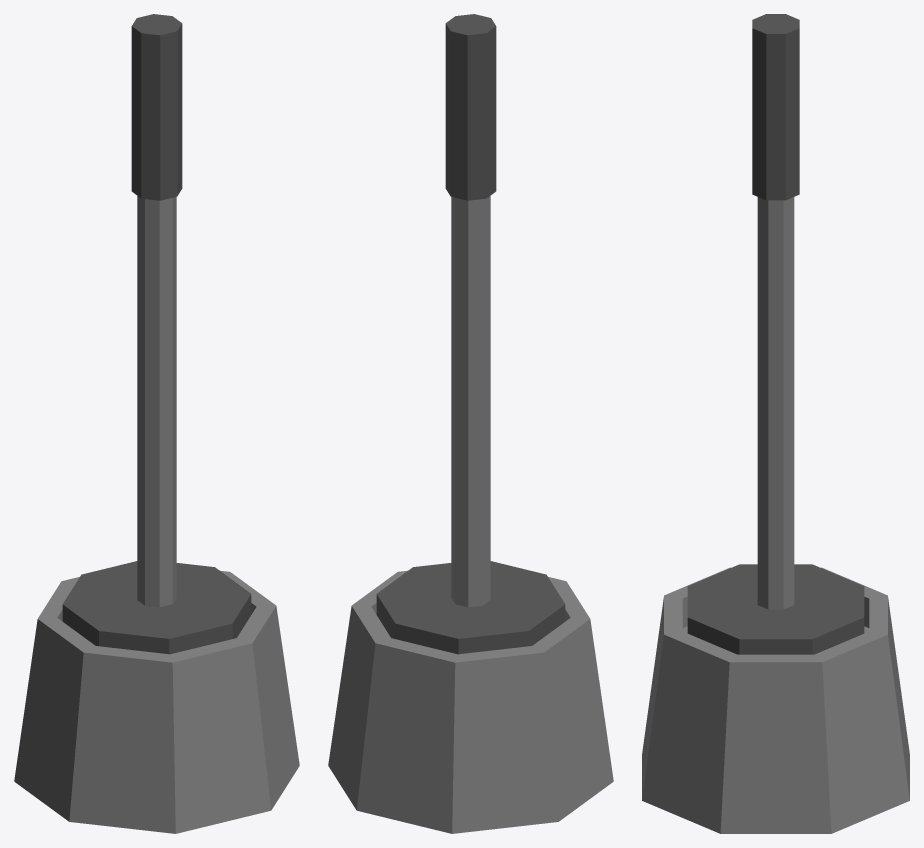
Rendered from BathroomProps_13.fbx.
The picture shows the model from 3 angles, left to right: view 1: azimuth 30°, elevation 25°; view 2: azimuth 150°, elevation 25°; view 3: azimuth 270°, elevation 25°; orthographic projection.
Visible parts, largest first — view 1: BathroomProps_13; view 2: BathroomProps_13; view 3: BathroomProps_13.
Part boxes in pixels (left/top/right/bottom): BathroomProps_13: left=14, top=14, right=299, bottom=833; BathroomProps_13: left=328, top=14, right=613, bottom=833; BathroomProps_13: left=642, top=14, right=909, bottom=833.
Size of the model in its own units: 15.08 by 46.81 by 15.08.
